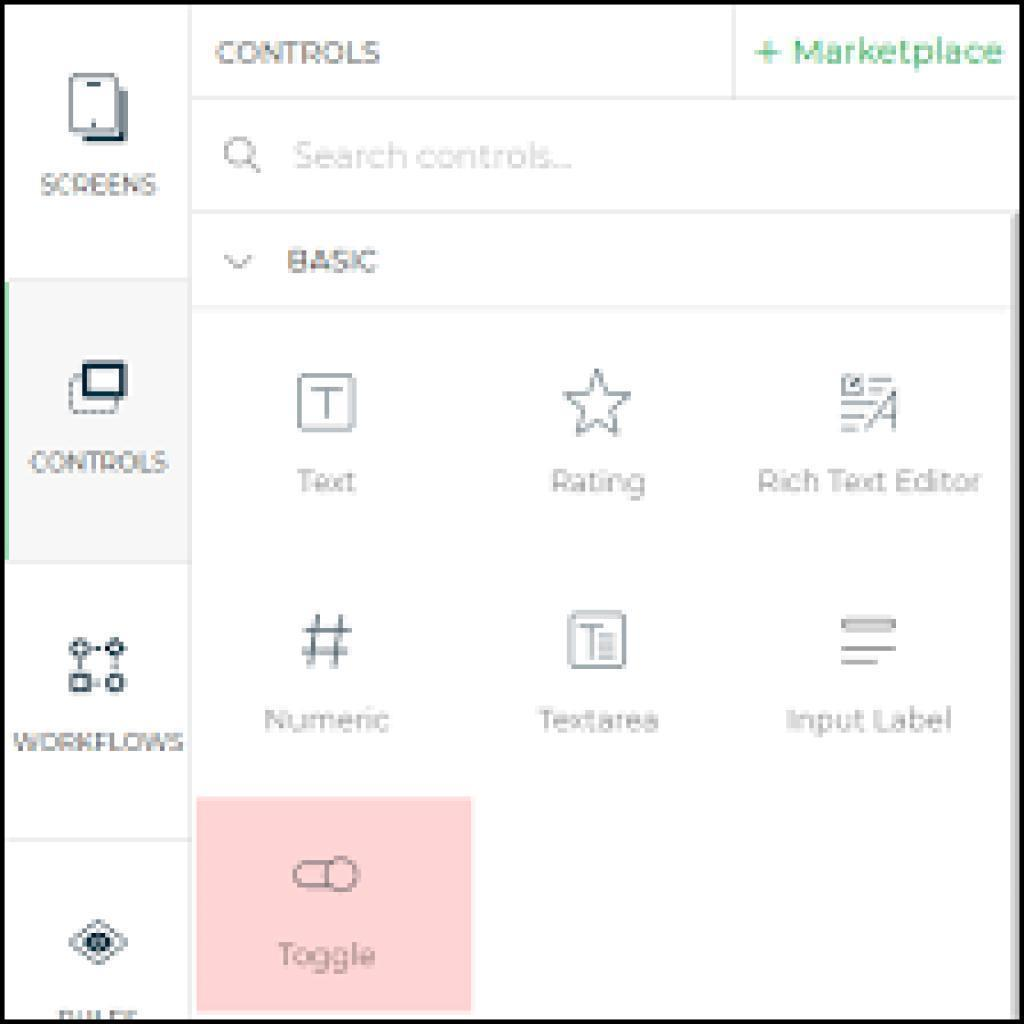dropdown: (193, 216, 1007, 305)
icon: (545, 365, 639, 450), (59, 60, 136, 159), (61, 624, 140, 706), (285, 364, 365, 442), (55, 360, 137, 430), (825, 610, 901, 681), (831, 371, 908, 441), (561, 605, 626, 677), (295, 610, 364, 670), (218, 128, 279, 187)
switch: (285, 849, 368, 898)
